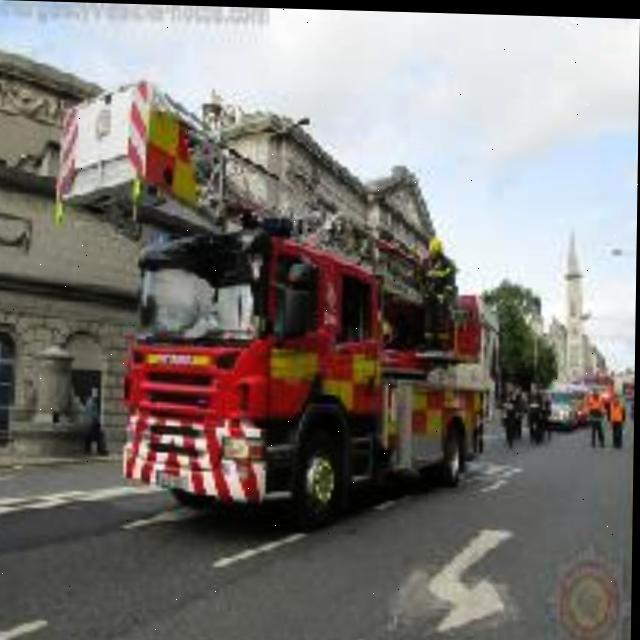emergency: (55, 106, 510, 539)
